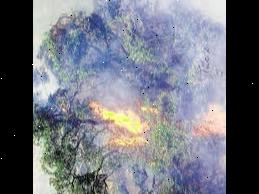fire: (68, 78, 226, 160)
